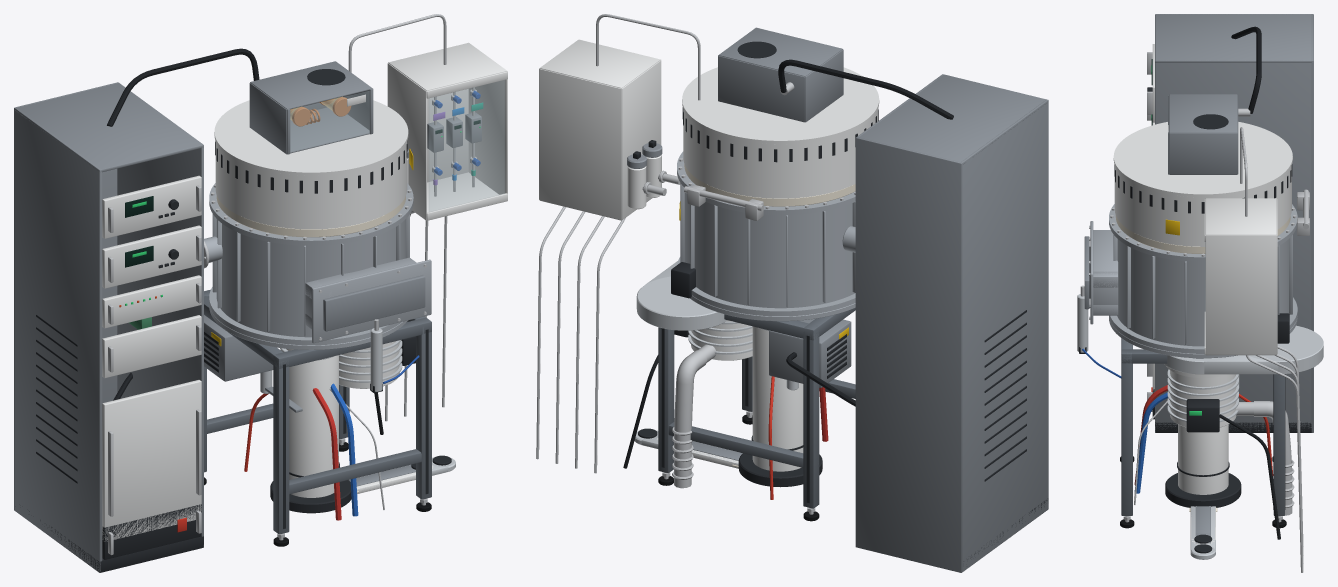
The model's file is etcher_detail.glb.
The picture shows the model from 3 angles, left to right: view 1: azimuth 30°, elevation 25°; view 2: azimuth 150°, elevation 25°; view 3: azimuth 270°, elevation 25°; orthographic projection. The views are drawn at different scales.
Parts seen in each view (by area): view 1: rack, gasbox, rfcover, chamber, frame, srcmatch, atm_base, slit, slit__door, biasmatch, turbo, lines (+4 smaller); view 2: rack, gasbox, chamber, rfcover, srcmatch, frame, atm_base, turbo, pendulum, biasmatch, cmg, window (+3 smaller); view 3: rack, gasbox, rfcover, chamber, srcmatch, turbo, frame, atm_base, pendulum, slit, lines, vtm_l1 (+3 smaller).
Boxes of the visible parts, x1,y1,x2,y2 form: rack: [14, 82, 203, 572]; gasbox: [348, 14, 507, 421]; rfcover: [214, 100, 413, 229]; chamber: [209, 183, 413, 349]; frame: [204, 289, 431, 546]; srcmatch: [107, 48, 373, 154]; atm_base: [270, 348, 351, 513]; slit: [305, 257, 431, 393]; slit__door: [323, 275, 425, 331]; biasmatch: [113, 315, 273, 400]; turbo: [339, 336, 415, 434]; lines: [244, 383, 384, 520]; rack: [855, 74, 1048, 572]; gasbox: [536, 14, 700, 473]; chamber: [677, 151, 855, 321]; rfcover: [682, 67, 879, 198]; srcmatch: [718, 27, 953, 122]; frame: [658, 308, 855, 521]; atm_base: [738, 326, 822, 487]; turbo: [623, 320, 752, 488]; pendulum: [636, 261, 727, 330]; biasmatch: [769, 318, 855, 406]; cmg: [627, 140, 680, 209]; window: [684, 164, 855, 206]; rack: [1147, 14, 1313, 432]; gasbox: [1204, 127, 1303, 572]; rfcover: [1113, 122, 1292, 246]; chamber: [1109, 189, 1309, 358]; srcmatch: [1168, 26, 1261, 174]; turbo: [1166, 366, 1294, 539]; frame: [1120, 338, 1286, 528]; atm_base: [1165, 424, 1241, 507]; pendulum: [1164, 313, 1323, 374]; slit: [1077, 221, 1121, 378]; lines: [1134, 385, 1273, 504]; vtm_l1: [1190, 506, 1215, 559].
Size of the model in its own units: 1.83 by 1.76 by 0.972.
